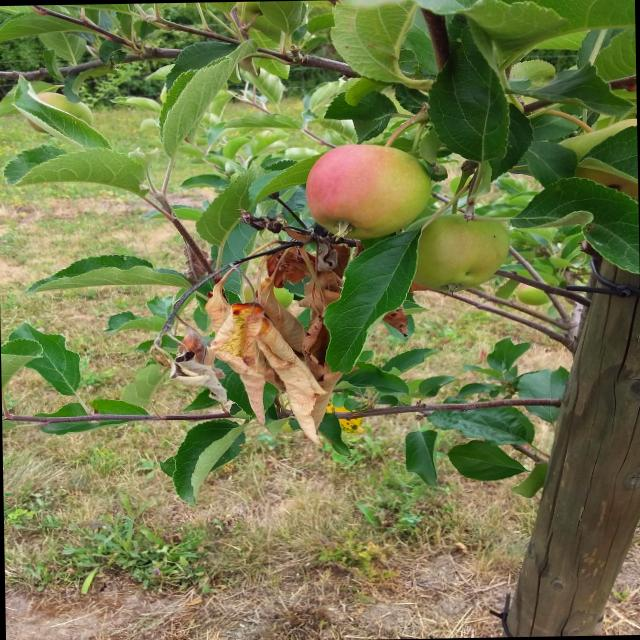-FireBlight-: (170, 220, 364, 436)
